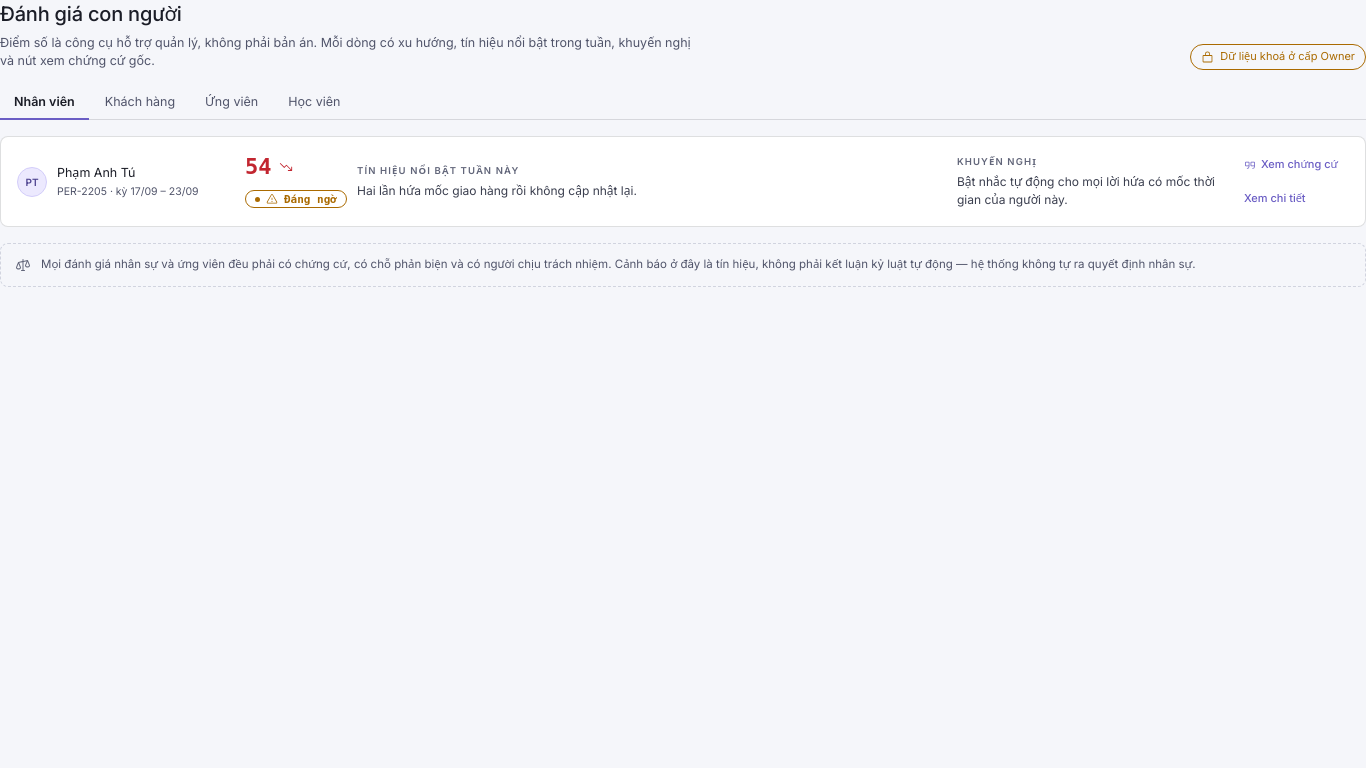
Scenario: Đánh giá con người — Q4 (docs/PLAN.md) › Quản lý chỉ có people_review.read (write = none): thấy cờ nhưng không có nút Bỏ cờ / form sửa điểm (không nút chết 403)
Click the button "Xem chi tiết" at (1275, 199), box [1233,185,1317,212]
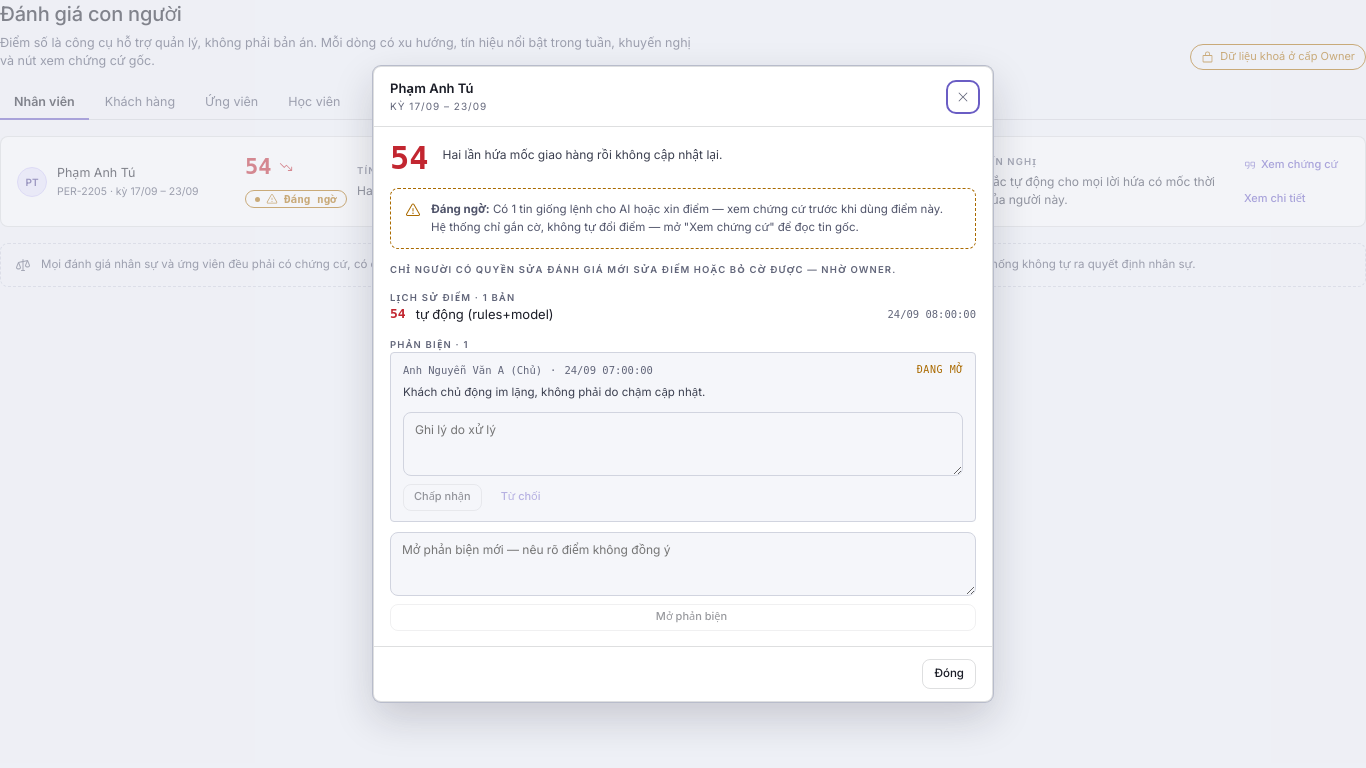
Check: the element named "Cảnh báo đáng ngờ" shows "Có 1 tin giống lệnh cho AI hoặc xin điểm — xem chứng cứ trước khi dùng điểm này.", box [493,202,943,216]
Check: the text with test id "ppl-read-only" reads "Chỉ người có quyền sửa đánh giá mới sửa điểm hoặc bỏ cờ được — nhờ Owner.", box [390,264,896,275]
